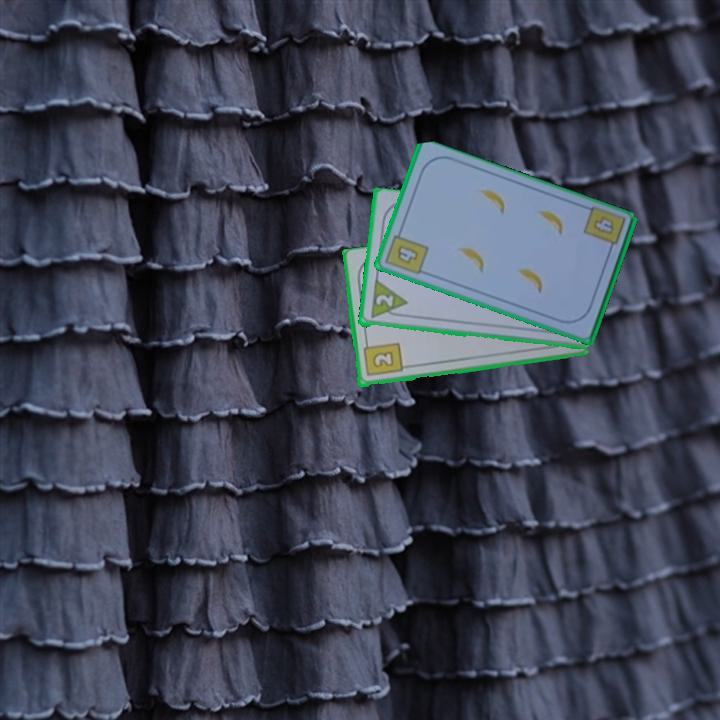2b: (359, 337, 405, 379)
2p: (367, 278, 409, 322)
4b: (382, 226, 431, 278), (589, 213, 616, 238)
